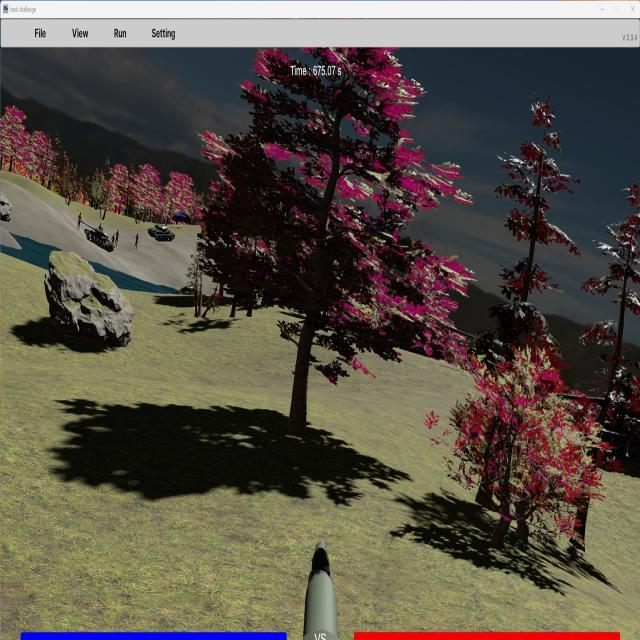Tank: (79, 219, 116, 253), (147, 223, 181, 242), (0, 190, 11, 222)
